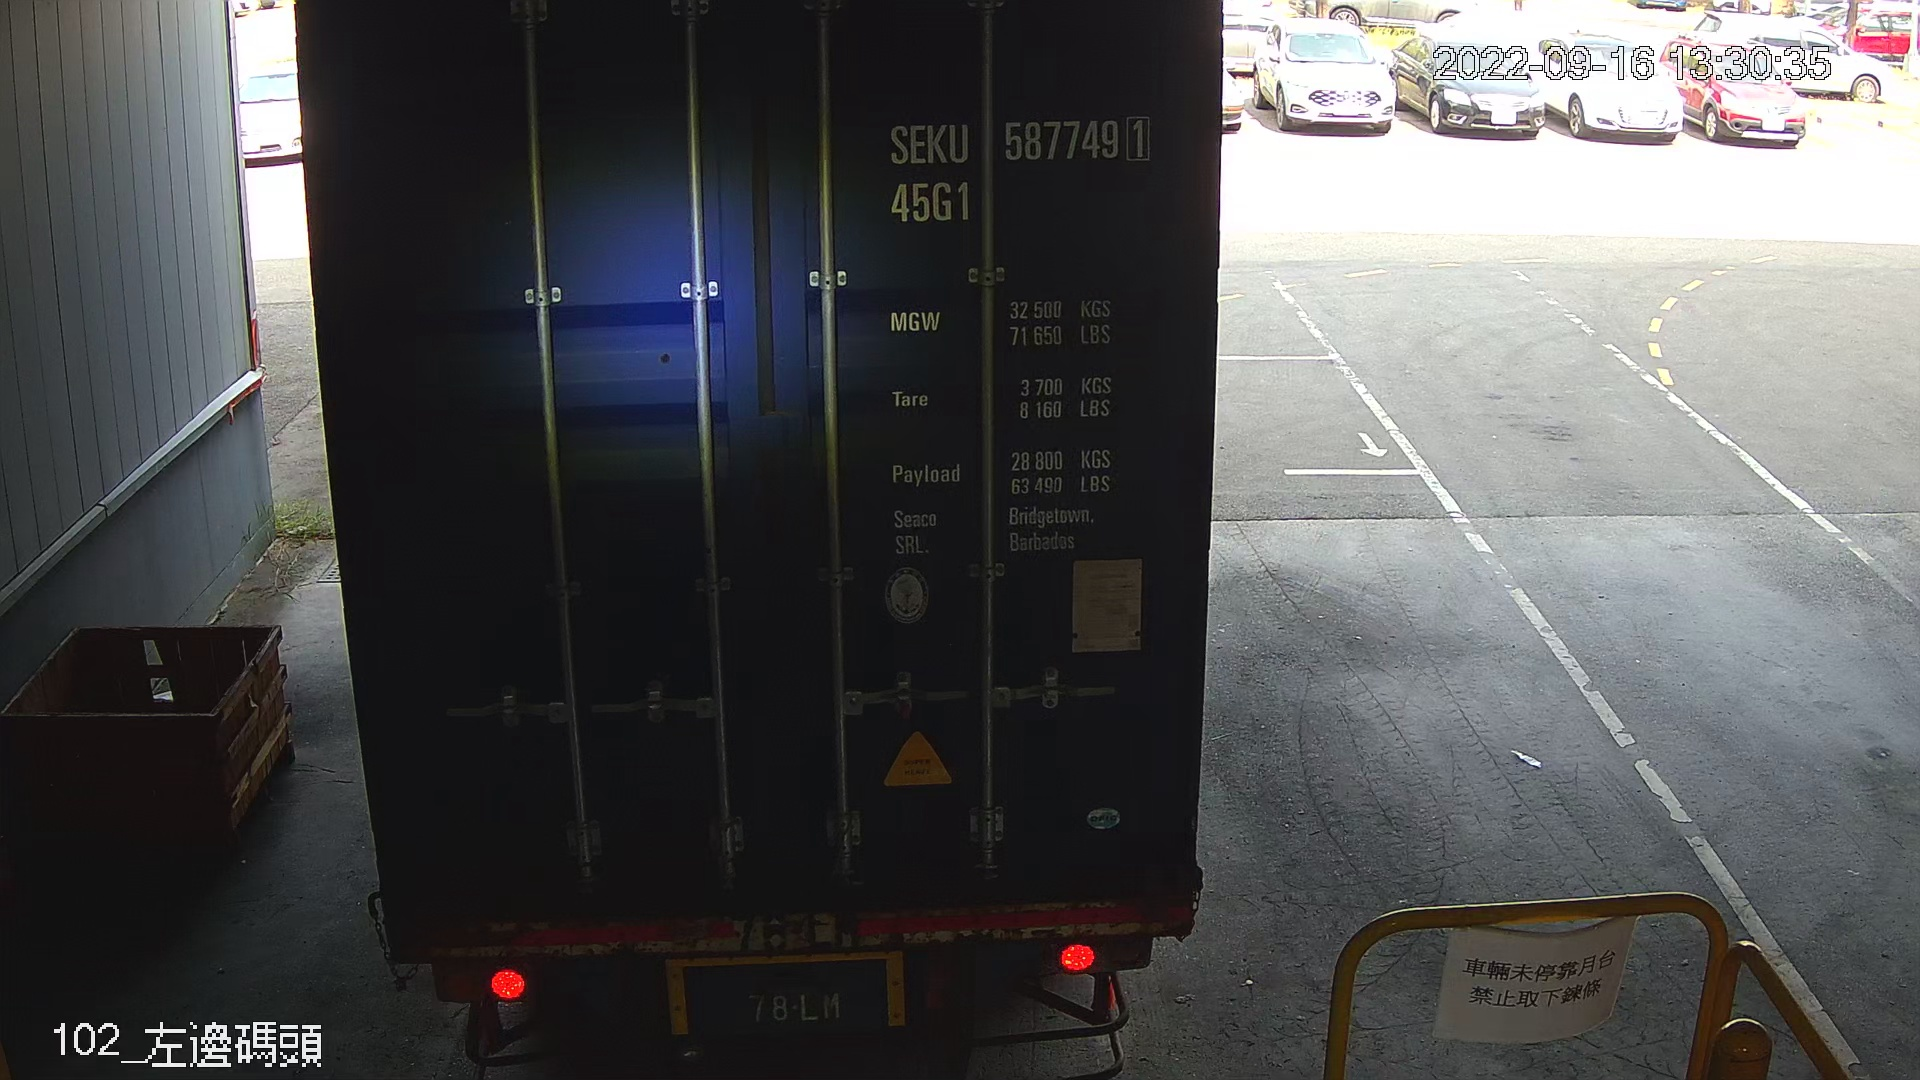container: (873, 102, 1162, 237)
